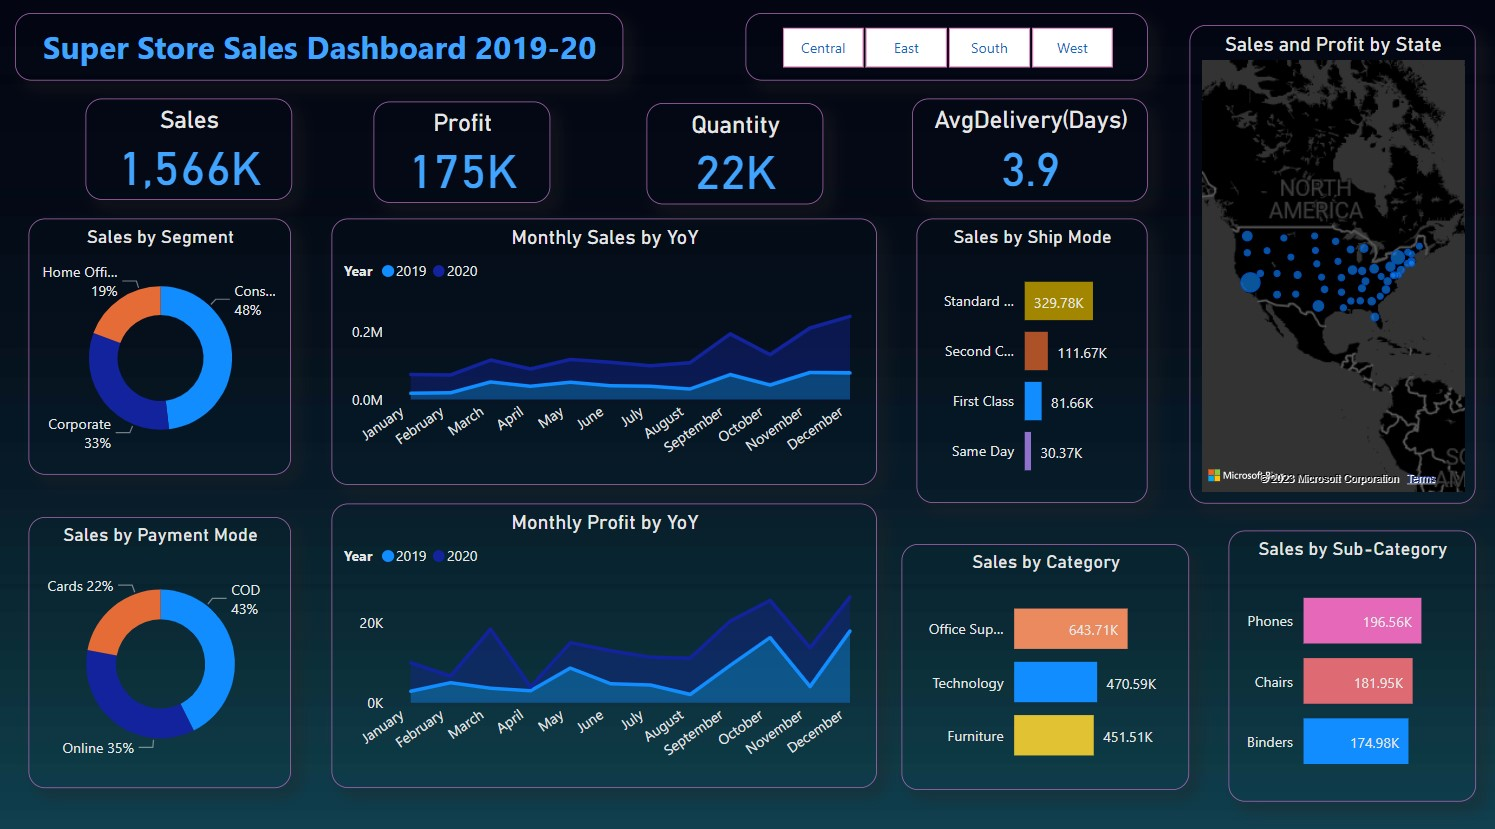

The dashboard page shown, as its layout file describes it:
{"tool":"powerbi","page":{"name":"Dashboard","canvas":[1280,720],"ordinal":0},"visuals":[{"type":"clusteredBarChart","title":"Sales by Category","fields":{"Y":["Sum(SuperStore_Sales_Dataset.Sales)"],"Category":["SuperStore_Sales_Dataset.Category"]},"box":[767.1,462.9,244.3,208.6],"z":0},{"type":"clusteredBarChart","title":"Sales by Sub-Category","fields":{"Y":["Sum(SuperStore_Sales_Dataset.Sales)"],"Category":["SuperStore_Sales_Dataset.Sub-Category"]},"box":[1044.3,451.4,210,230],"z":1000},{"type":"clusteredBarChart","title":"Sales by Ship Mode","fields":{"Y":["Sum(SuperStore_Sales_Dataset.Sales)"],"Category":["SuperStore_Sales_Dataset.Ship Mode"]},"box":[780,187.1,195.7,241.4],"z":2000},{"type":"stackedAreaChart","title":"Monthly Sales by YoY","fields":{"Category":["SuperStore_Sales_Dataset.Order Date.Variation.Date Hierarchy.Month"],"Y":["Sum(SuperStore_Sales_Dataset.Sales)"],"Series":["SuperStore_Sales_Dataset.Order Date.Variation.Date Hierarchy.Year"]},"box":[284.3,187.1,462.9,225.7],"z":3000},{"type":"stackedAreaChart","title":"Monthly Profit by YoY","fields":{"Category":["SuperStore_Sales_Dataset.Order Date.Variation.Date Hierarchy.Month"],"Series":["SuperStore_Sales_Dataset.Order Date.Variation.Date Hierarchy.Year"],"Y":["Sum(SuperStore_Sales_Dataset.Profit)"]},"box":[284.3,428.6,462.9,241.4],"z":4000},{"type":"map","title":"Sales and Profit by State","fields":{"Category":["SuperStore_Sales_Dataset.State"],"Size":["Sum(SuperStore_Sales_Dataset.Sales)"]},"box":[1011.4,22.9,242.9,405.7],"z":5000},{"type":"donutChart","title":"Sales by Segment","fields":{"Category":["SuperStore_Sales_Dataset.Segment"],"Y":["Sum(SuperStore_Sales_Dataset.Sales)"]},"box":[27.1,187.1,222.9,217.1],"z":5001},{"type":"donutChart","title":"Sales by Payment Mode","fields":{"Category":["SuperStore_Sales_Dataset.Payment Mode"],"Y":["Sum(SuperStore_Sales_Dataset.Sales)"]},"box":[27.1,440,222.9,230],"z":5002},{"type":"slicer","fields":{"Values":["SuperStore_Sales_Dataset.Region"]},"box":[635,12.5,341.2,57.5],"z":5003},{"type":"textbox","box":[15.7,12.9,515.7,57.1],"z":5004},{"type":"card","title":"Sales","fields":{"Values":["Sum(SuperStore_Sales_Dataset.Sales)"]},"box":[75,85,175,86.2],"z":5005},{"type":"card","title":"Profit","fields":{"Values":["Sum(SuperStore_Sales_Dataset.Profit)"]},"box":[318.8,87.5,150,86.2],"z":5006},{"type":"card","title":"Quantity","fields":{"Values":["Sum(SuperStore_Sales_Dataset.Quantity)"]},"box":[551.2,88.8,150,86.2],"z":5007},{"type":"card","title":"AvgDelivery(Days)","fields":{"Values":["Avg(SuperStore_Sales_Dataset.AvgDelivery)"]},"box":[775.7,85.7,200,87.1],"z":5008}]}

Visuals, with their boxes in screenshot pixels (x1, y1, x2, y2), scaled from the page's 1280x720 canvas onto the 1495x829 screenshot:
"Sales by Category" clusteredBarChart: x1=896 y1=533 x2=1181 y2=773
"Sales by Sub-Category" clusteredBarChart: x1=1220 y1=520 x2=1465 y2=785
"Sales by Ship Mode" clusteredBarChart: x1=911 y1=215 x2=1140 y2=493
"Monthly Sales by YoY" stackedAreaChart: x1=332 y1=215 x2=873 y2=475
"Monthly Profit by YoY" stackedAreaChart: x1=332 y1=493 x2=873 y2=771
"Sales and Profit by State" map: x1=1181 y1=26 x2=1465 y2=493
"Sales by Segment" donutChart: x1=32 y1=215 x2=292 y2=465
"Sales by Payment Mode" donutChart: x1=32 y1=507 x2=292 y2=771
slicer - SuperStore_Sales_Dataset.Region: x1=742 y1=14 x2=1140 y2=81
textbox: x1=18 y1=15 x2=621 y2=81
"Sales" card: x1=88 y1=98 x2=292 y2=197
"Profit" card: x1=372 y1=101 x2=548 y2=200
"Quantity" card: x1=644 y1=102 x2=819 y2=201
"AvgDelivery(Days)" card: x1=906 y1=99 x2=1140 y2=199
